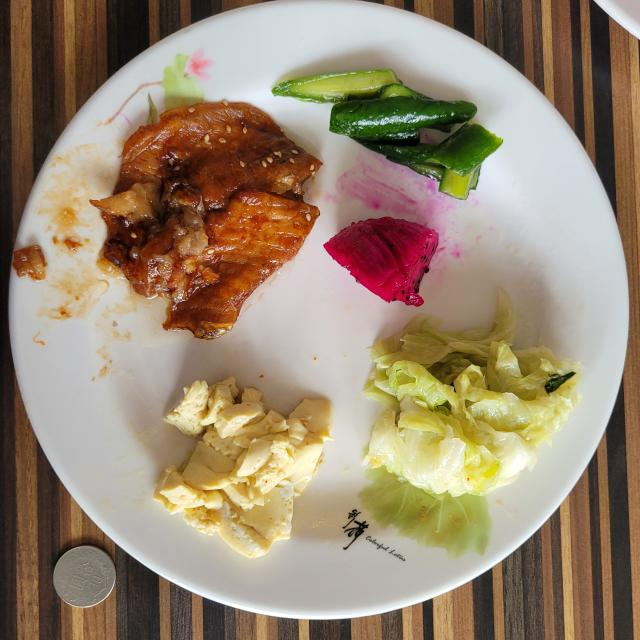Kabayaki sea bream fillet: (91, 101, 321, 339)
cabbage: (366, 295, 580, 496)
coin: (54, 546, 116, 608)
cucumber: (272, 70, 502, 199)
